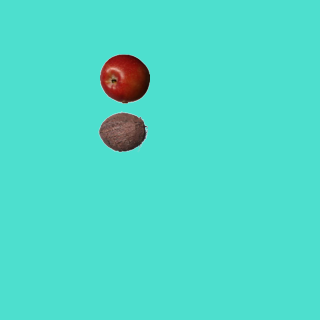Apple Braeburn: (99, 53, 149, 103)
Cocos: (97, 106, 147, 156)
